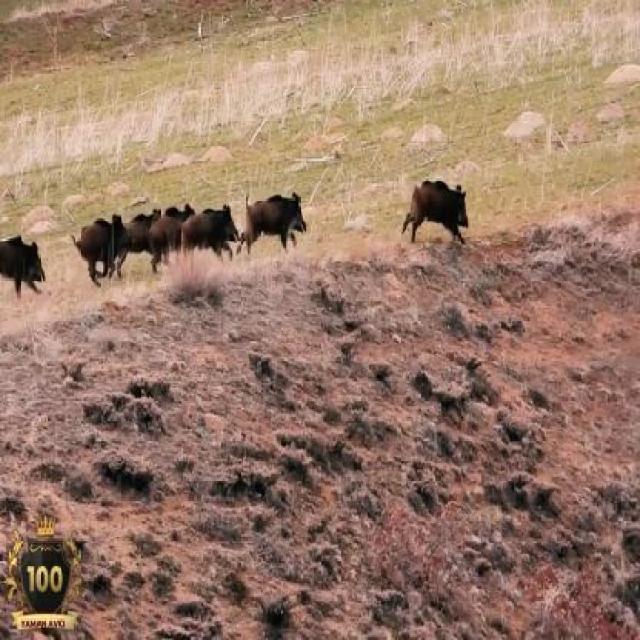Boar: (228, 189, 326, 300), (165, 185, 266, 286), (400, 158, 482, 260), (74, 202, 144, 292), (138, 198, 198, 296)
